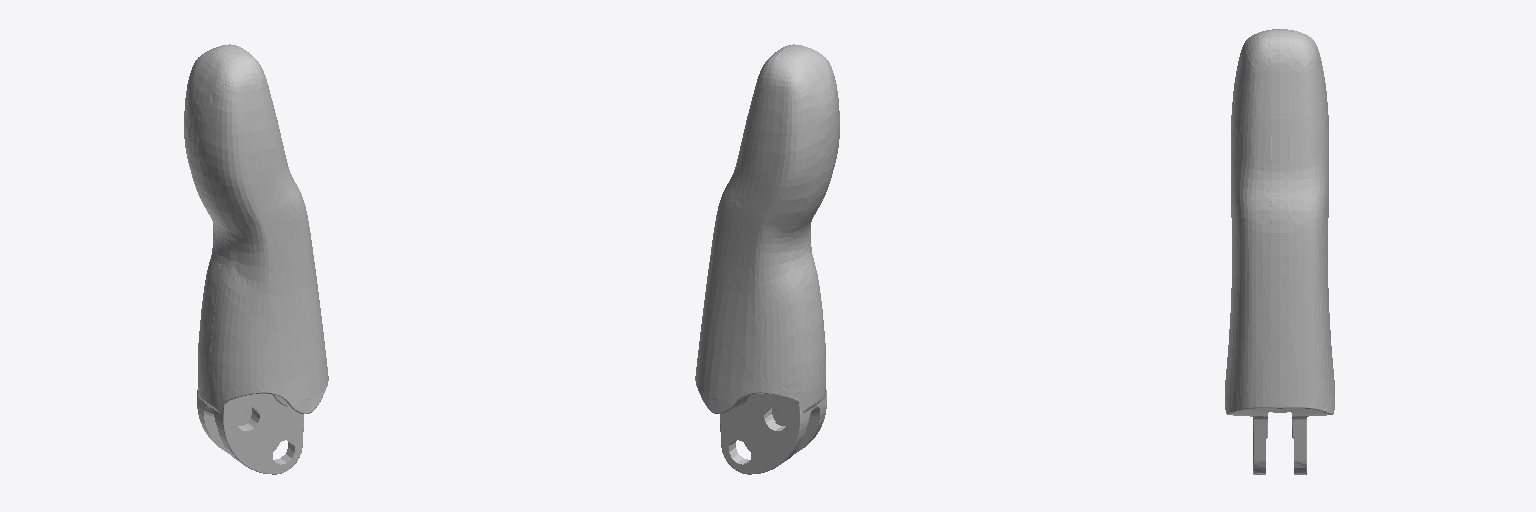
3 renders of one model, left to right at view 1: azimuth 30°, elevation 25°; view 2: azimuth 150°, elevation 25°; view 3: azimuth 270°, elevation 25°, orthographic.
Parts seen in each view (by area): view 1: Link20_R; view 2: Link20_R; view 3: Link20_R.
Boxes of the visible parts, <box> form: Link20_R: <box>184,44,328,474</box>; Link20_R: <box>695,44,839,474</box>; Link20_R: <box>1225,29,1334,474</box>.
Bounding box in the file's own units: 0.0165 × 0.0532 × 0.0126.